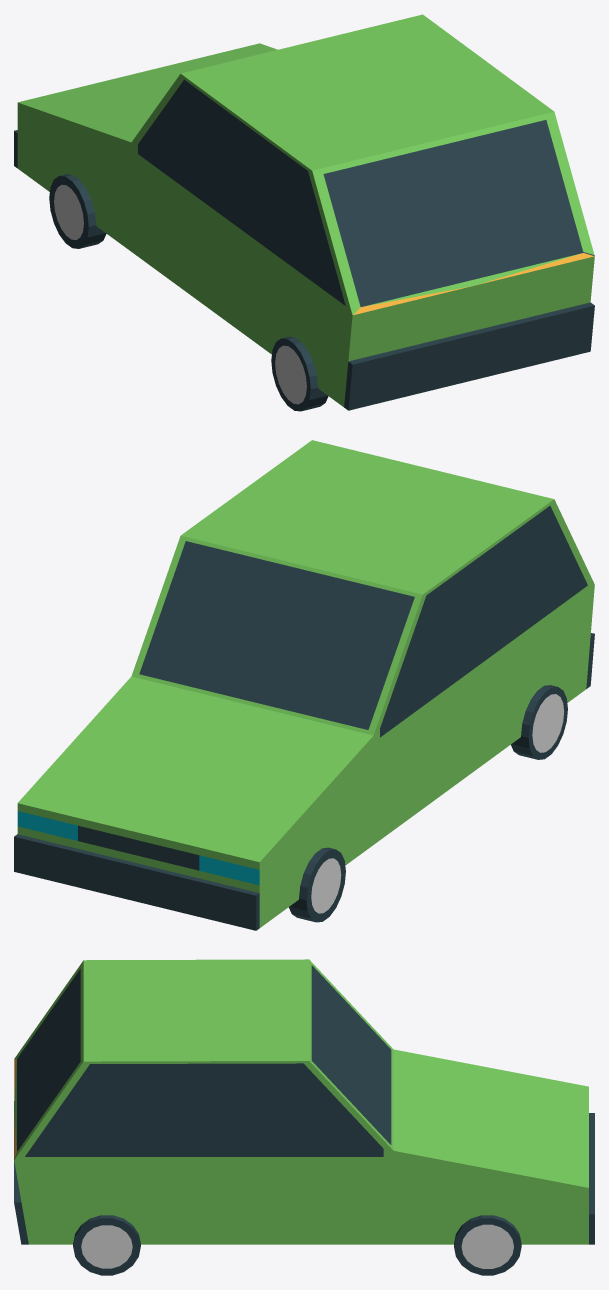
File: CarGreen1x1.fbx
3 views of the same model, one above another, from view 1: azimuth 30°, elevation 25°; view 2: azimuth 150°, elevation 25°; view 3: azimuth 270°, elevation 25° (orthographic). The views are drawn at different scales.
Visible parts, largest first — view 1: CAR_03_2_3; view 2: CAR_03_2_3; view 3: CAR_03_2_3.
Boxes of the visible parts, x1,y1,x2,y2 form: CAR_03_2_3: [14, 14, 594, 411]; CAR_03_2_3: [14, 440, 594, 930]; CAR_03_2_3: [14, 959, 594, 1275].
Size of the model in its own units: 0.4304 by 0.3941 by 0.9813.
1 material, 1 textured.
